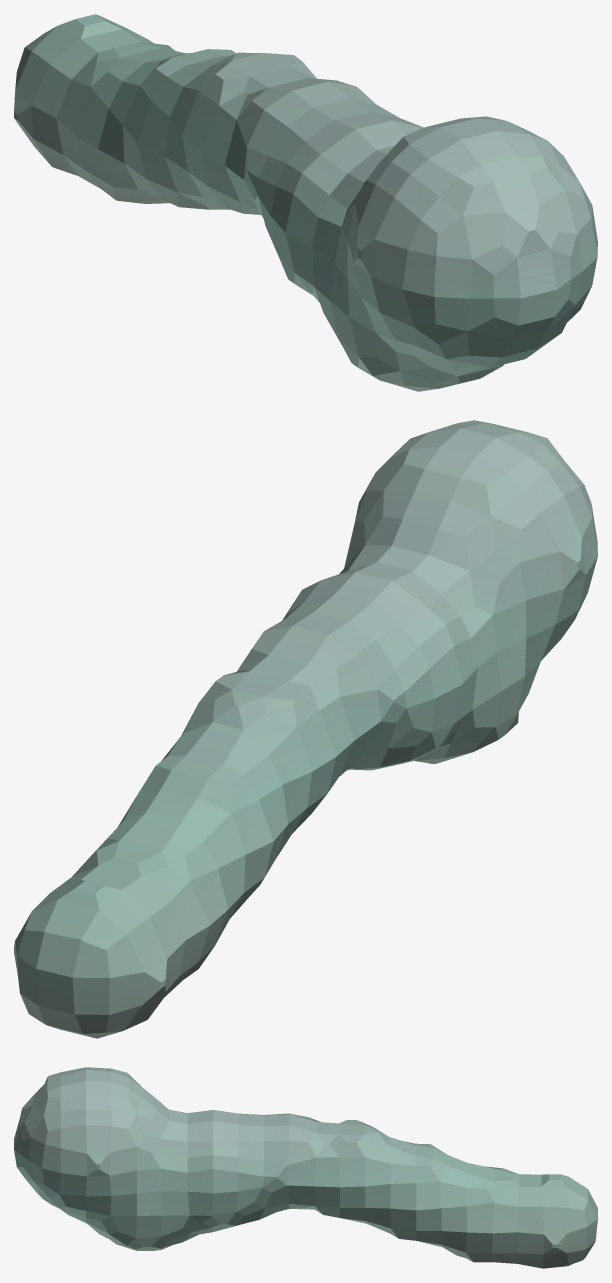
Rendered from python.glb.
3 views of the same model, one above another, from view 1: azimuth 30°, elevation 25°; view 2: azimuth 150°, elevation 25°; view 3: azimuth 270°, elevation 25° (orthographic). The views are drawn at different scales.
Parts seen in each view (by area): view 1: geometry_0; view 2: geometry_0; view 3: geometry_0.
Part boxes in pixels (<box>): geometry_0: <box>14,14,597,391</box>; geometry_0: <box>14,420,597,1038</box>; geometry_0: <box>14,1067,597,1268</box>.
Bounding box in the file's own units: 0.6853 × 0.9299 × 2.62.
Materials: 1 (1 with a texture image).
